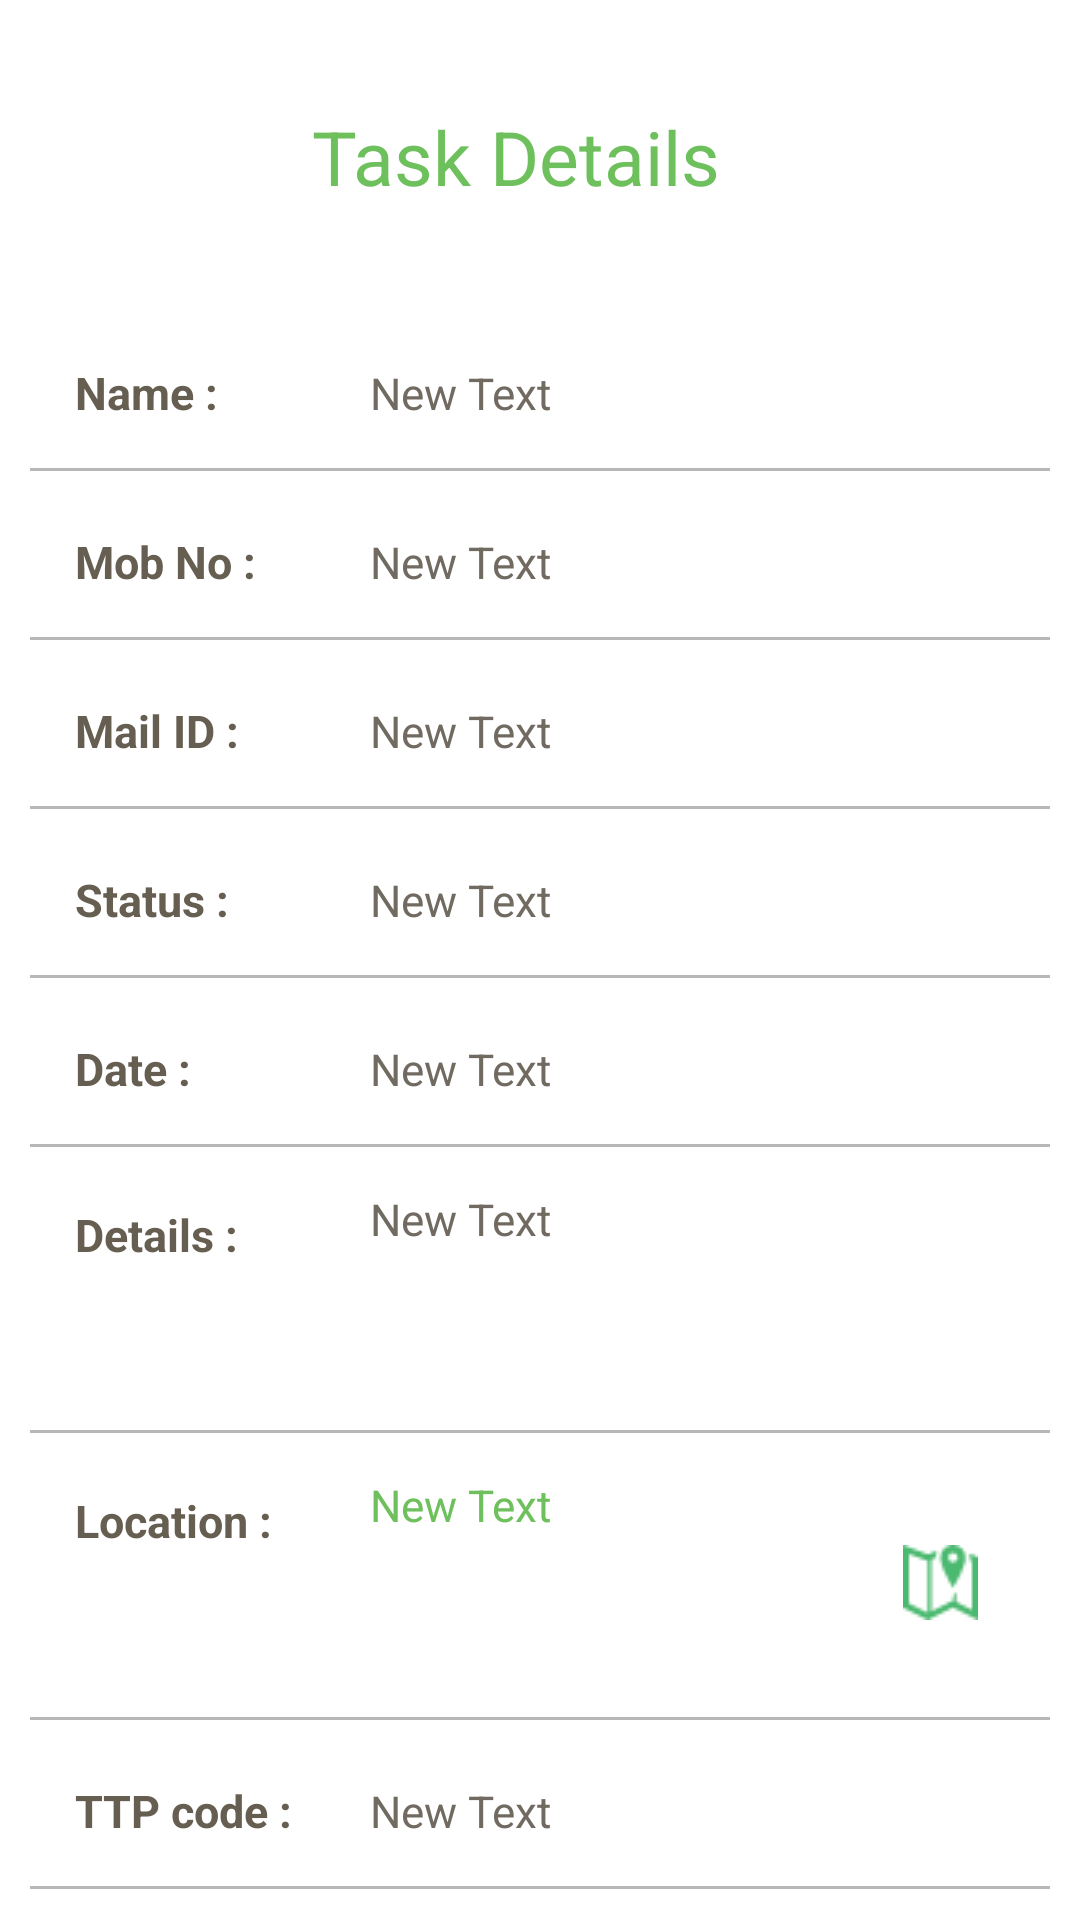

Screen size 1080px×1920px. Icon name, then its box in pixels as (x1=x1, y1=y1, x2=x2, y2=y2):
map: (x1=903, y1=1545, x2=978, y2=1620)
